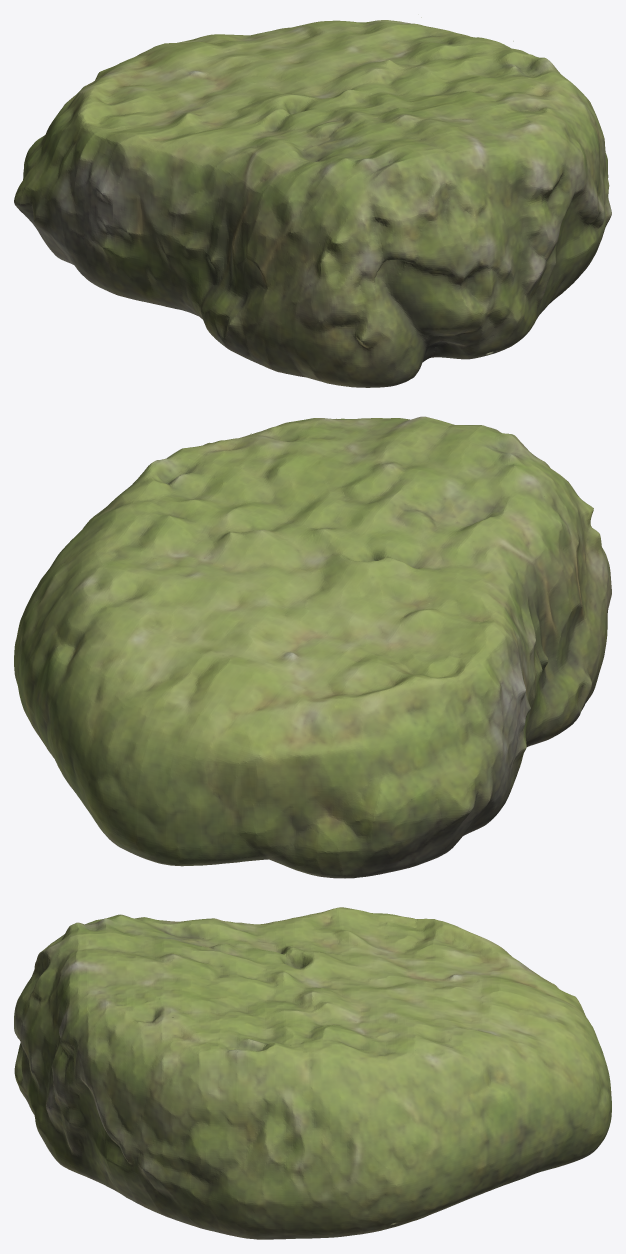
The picture shows the model from 3 angles, top to bottom: view 1: azimuth 30°, elevation 25°; view 2: azimuth 150°, elevation 25°; view 3: azimuth 270°, elevation 25°; orthographic projection. The views are drawn at different scales.
Visible parts, largest first — view 1: world; view 2: world; view 3: world.
Part boxes in pixels (bbox=[...]): world: bbox=[14, 17, 611, 387]; world: bbox=[14, 416, 611, 878]; world: bbox=[14, 907, 611, 1239].
Bounding box in the file's own units: 0.858 × 0.3652 × 0.9988.
